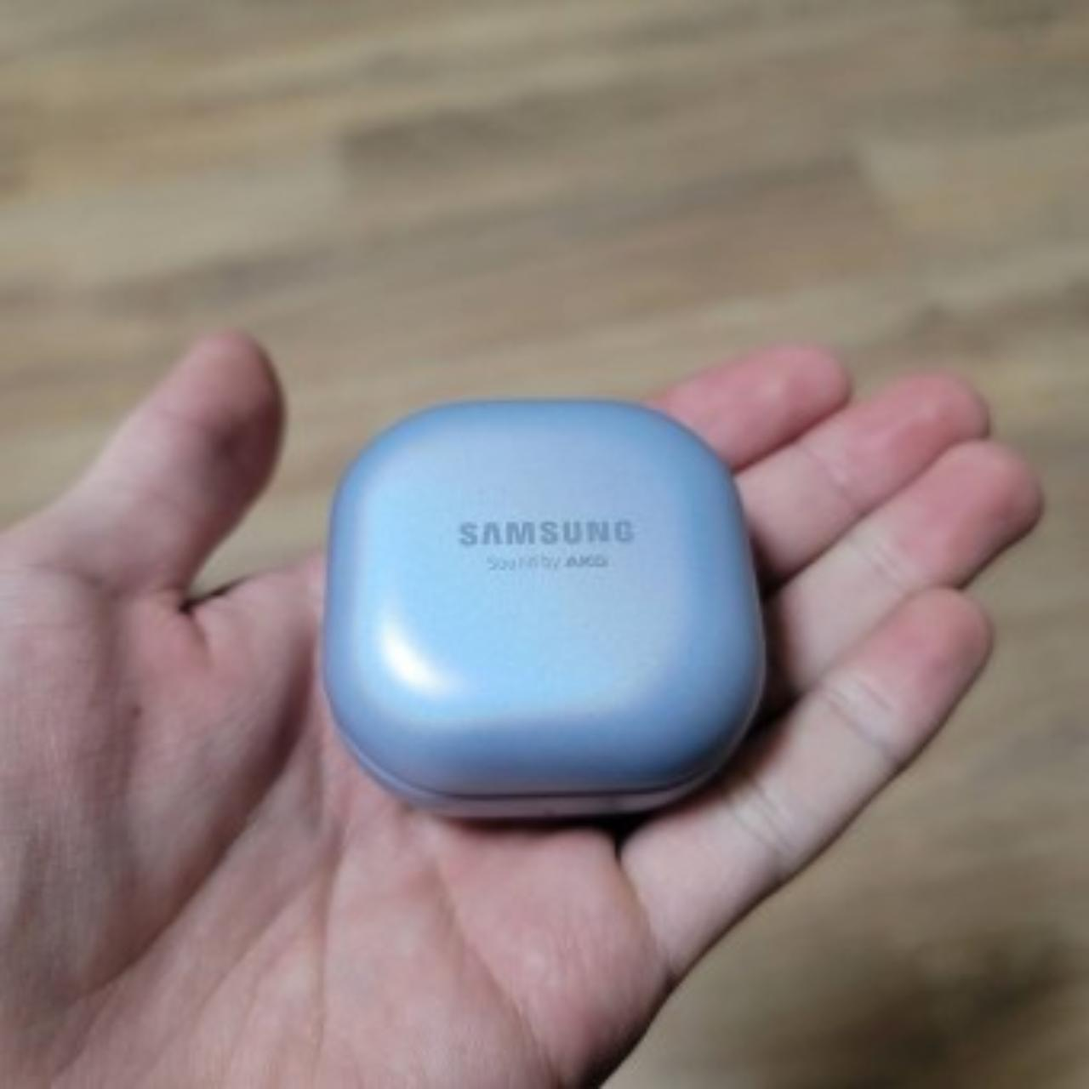Buds: (322, 395, 782, 837)
